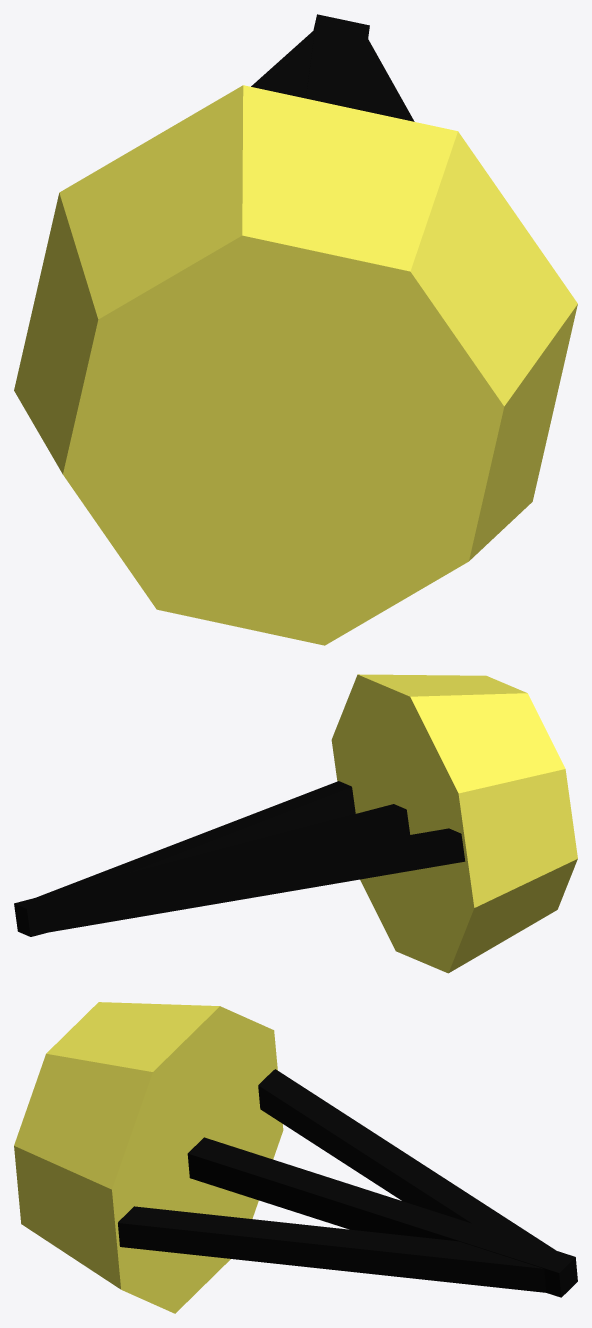
The model's file is TempleOSLeft.obj.
The picture shows the model from 3 angles, top to bottom: view 1: azimuth 30°, elevation 25°; view 2: azimuth 150°, elevation 25°; view 3: azimuth 270°, elevation 25°; orthographic projection. The views are drawn at different scales.
Visible parts, largest first — view 1: LeftSide_Cylinder; view 2: LeftSide_Cylinder; view 3: LeftSide_Cylinder.
Boxes of the visible parts, x1,y1,x2,y2 form: LeftSide_Cylinder: (14, 14, 577, 645); LeftSide_Cylinder: (14, 674, 577, 973); LeftSide_Cylinder: (14, 1002, 577, 1313).
Size of the model in its own units: 0.4021 by 0.2932 by 0.5176.
Materials: 1 (1 with a texture image).
